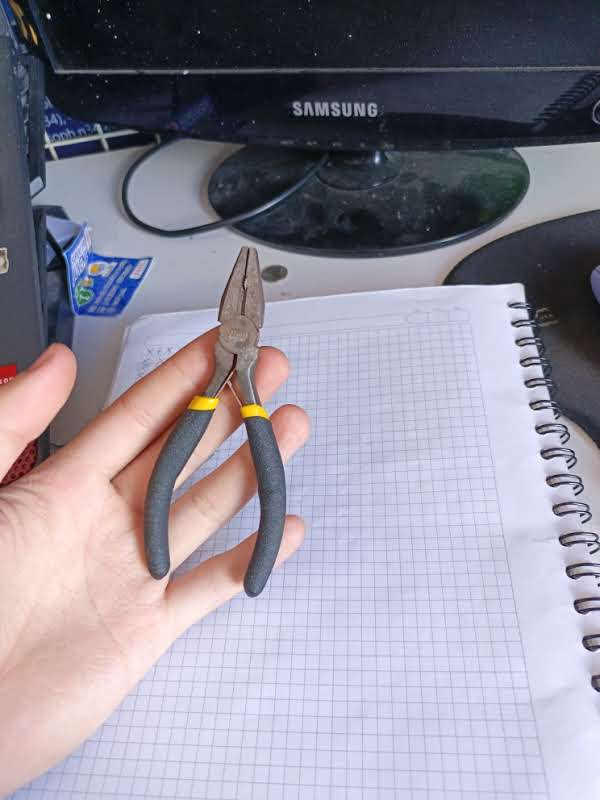Pinzas: (145, 248, 285, 595)
